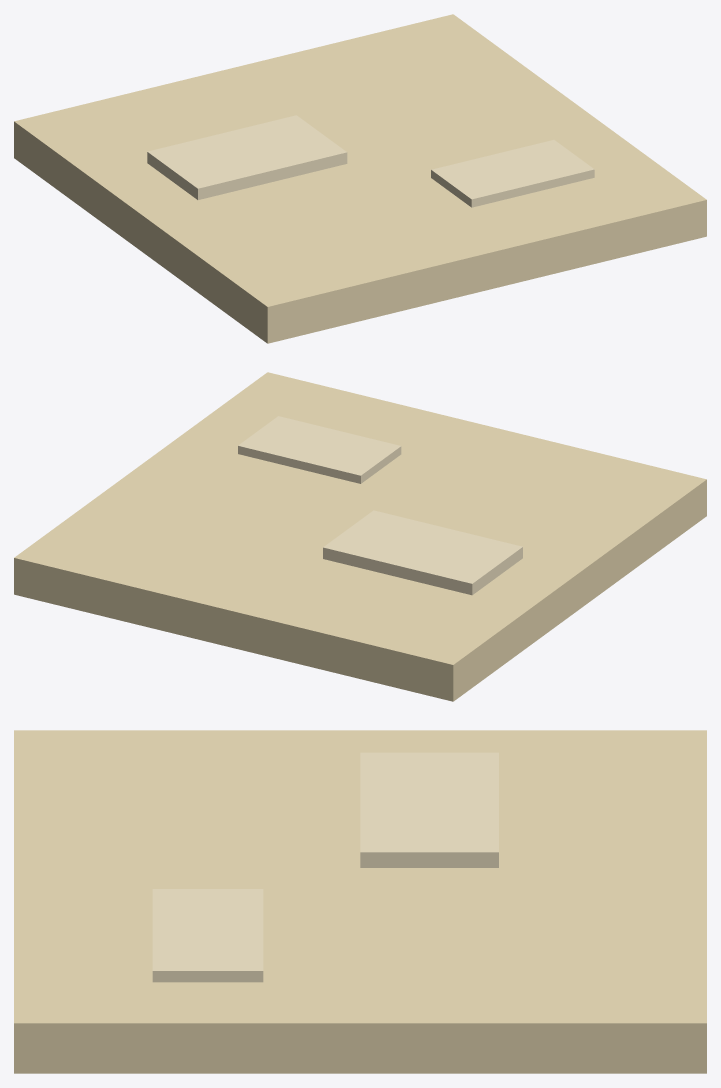
The model's file is sand.glb.
3 views of the same model, one above another, from view 1: azimuth 30°, elevation 25°; view 2: azimuth 150°, elevation 25°; view 3: azimuth 270°, elevation 25° (orthographic). The views are drawn at different scales.
Parts seen in each view (by area): view 1: sand_tile, sand_dune_0, sand_dune_1; view 2: sand_tile, sand_dune_0, sand_dune_1; view 3: sand_tile, sand_dune_0, sand_dune_1.
Boxes of the visible parts, bbox=[...] form: sand_tile: bbox=[14, 14, 706, 343]; sand_dune_0: bbox=[147, 115, 347, 199]; sand_dune_1: bbox=[431, 140, 594, 207]; sand_tile: bbox=[14, 372, 706, 701]; sand_dune_0: bbox=[323, 510, 522, 595]; sand_dune_1: bbox=[238, 416, 401, 483]; sand_tile: bbox=[14, 730, 706, 1073]; sand_dune_0: bbox=[360, 752, 498, 867]; sand_dune_1: bbox=[152, 889, 263, 982].
Size of the model in its own units: 1 by 0.105 by 1.
